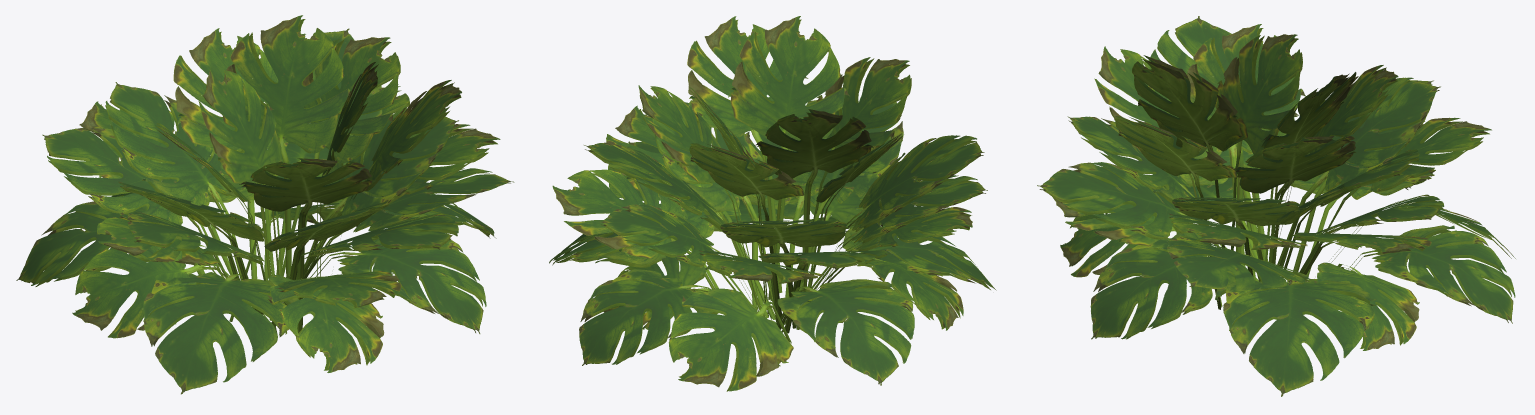
The model's file is NaturePlant05_3.FBX.
The picture shows the model from 3 angles, left to right: view 1: azimuth 30°, elevation 25°; view 2: azimuth 150°, elevation 25°; view 3: azimuth 270°, elevation 25°; orthographic projection. The views are drawn at different scales.
Parts seen in each view (by area): view 1: NaturePlant05_3; view 2: NaturePlant05_3; view 3: NaturePlant05_3.
Boxes of the visible parts, x1=… form: NaturePlant05_3: x1=16, y1=15, x2=514, y2=394; NaturePlant05_3: x1=549, y1=16, x2=996, y2=391; NaturePlant05_3: x1=1037, y1=16, x2=1515, y2=396.
Size of what is drawn, in the model's own units: 1.32 by 0.886 by 1.34.
